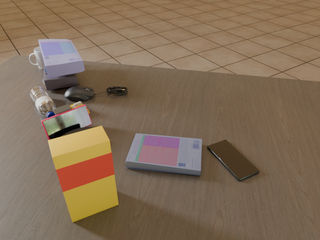book: (126, 133, 202, 175), (39, 39, 85, 79), (44, 63, 78, 90)
bottle: (30, 86, 56, 118)
box: (48, 126, 118, 222)
cup: (29, 47, 44, 69)
mouse: (65, 86, 96, 102)
phone: (207, 140, 259, 181), (41, 105, 92, 140)
toy_car: (70, 101, 90, 114)
